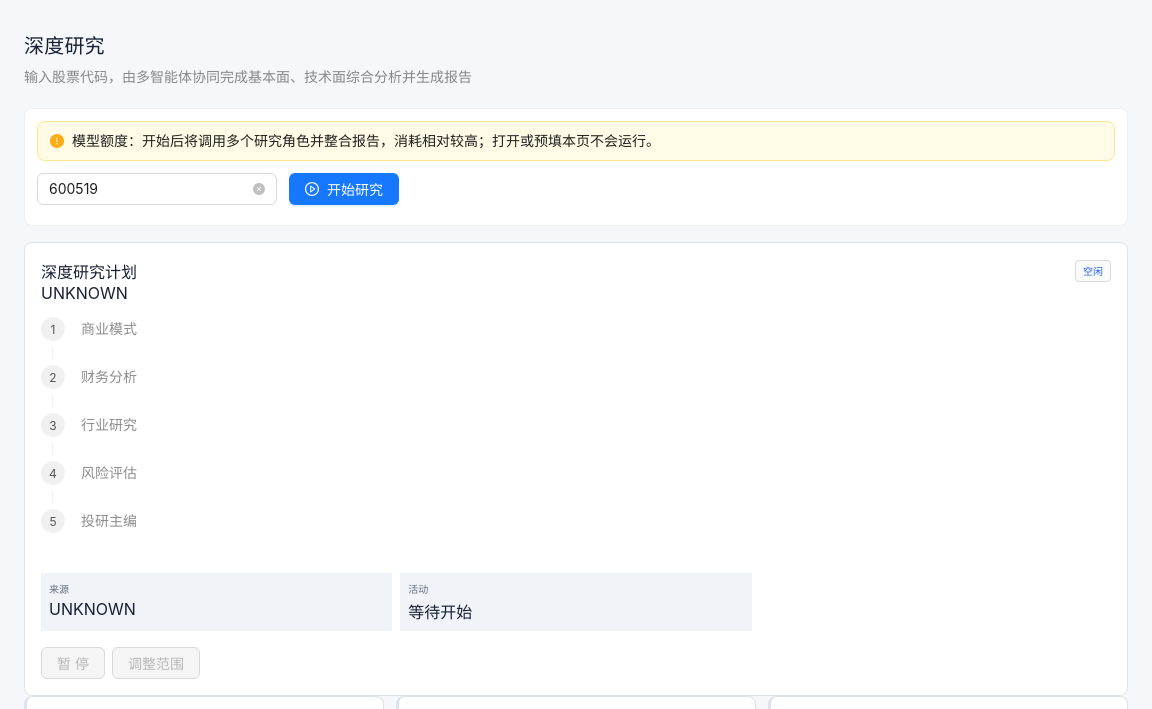
Test: Research SSE 接线 — agent_failed › 把失败 Agent 的卡片终结为 failed 并显示原因，且不弹全局错误、不误报整轮失败
Click the button "开始研究".
click(344, 189)  # box [289,173,399,205]
(page scrolled)
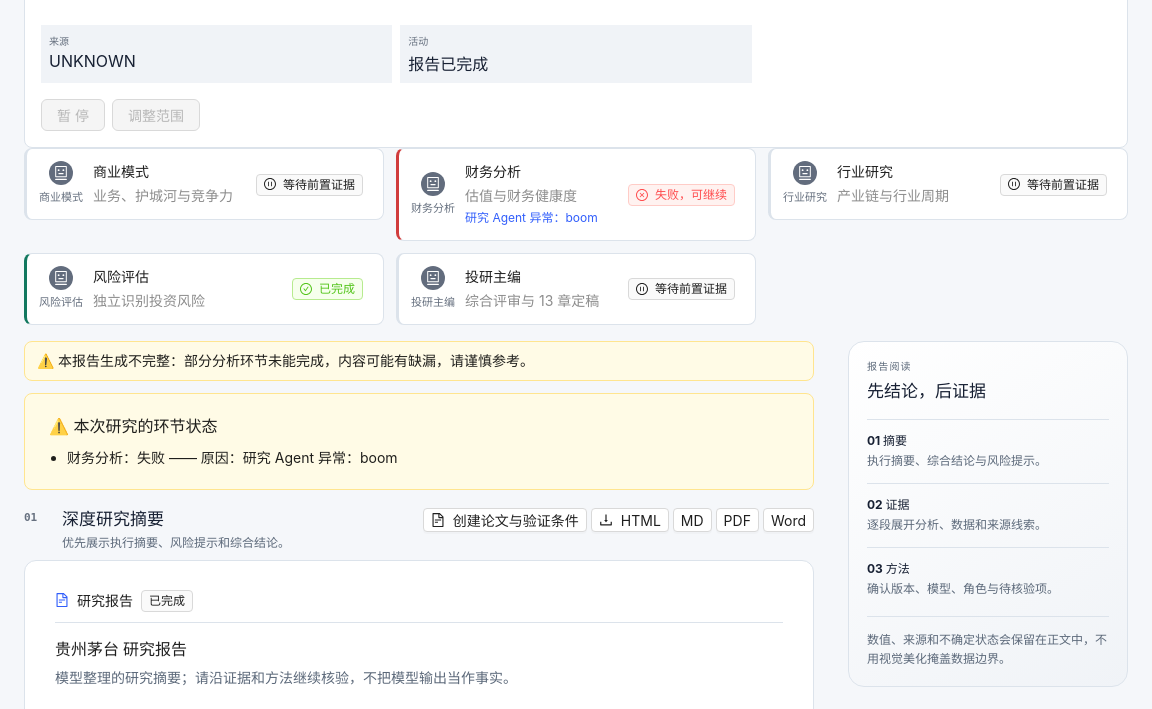
Check: the text "研究 Agent 异常：boom" is shown, box [465,209,618,228]
Check: the number of elements with class "agent-status-card--failed" is 1, box [396,148,756,241]
Check: the text "失败，可继续" is shown once, box [655,187,727,202]
